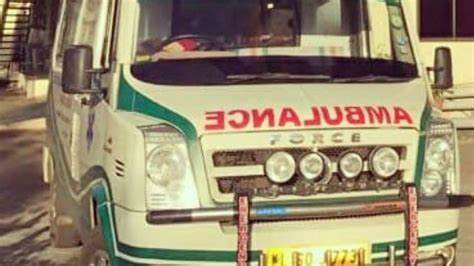ambulance: (76, 6, 474, 263)
